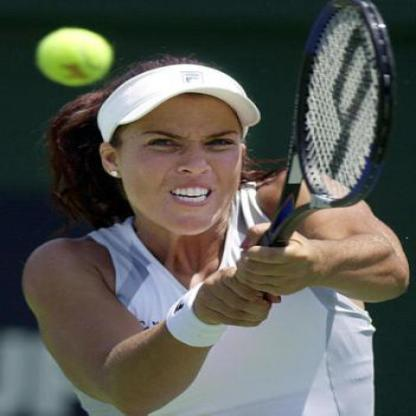face: (118, 58, 246, 237)
